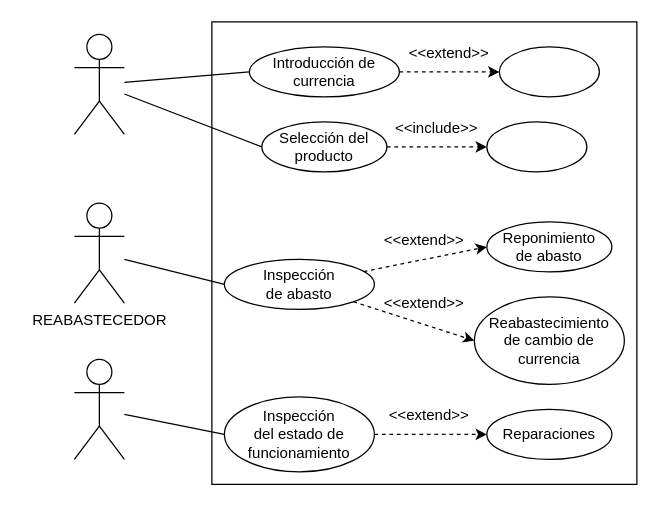
Image size: 659x508. Some labels were removed from this diagram. The box of each missing label's shape, as (x1, y1, x2, y2) in pixels:
CLIENTE: (73, 33, 124, 134)
Entrega de cambio: (498, 46, 599, 97)
Entrega de producto: (486, 121, 587, 172)
EQ. MANTENIMIENTO: (73, 358, 124, 459)
